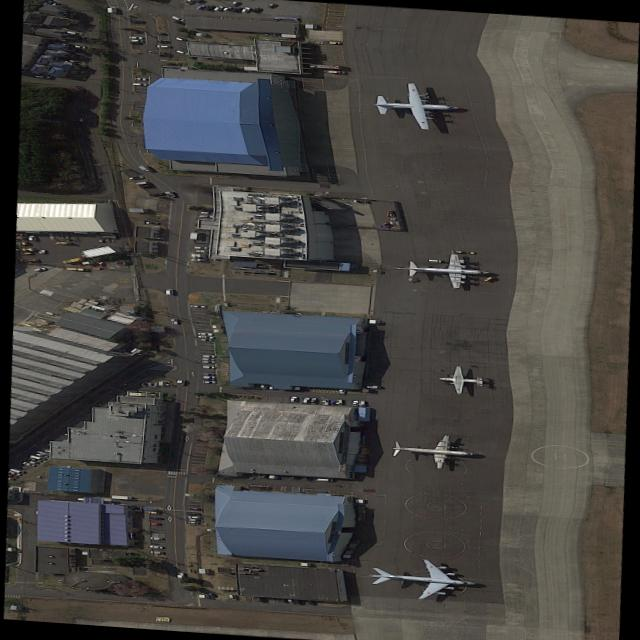plane: (353, 550, 482, 602), (360, 79, 462, 129), (378, 424, 485, 470), (390, 248, 489, 289), (436, 363, 482, 394)
small-vehicle: (135, 164, 152, 171), (33, 449, 52, 455), (28, 453, 45, 459), (39, 446, 56, 452), (32, 451, 48, 457), (64, 29, 83, 34), (169, 14, 184, 20), (173, 48, 188, 54), (326, 68, 344, 73), (26, 456, 43, 461), (239, 5, 251, 12), (227, 5, 241, 11), (7, 467, 23, 472), (137, 182, 153, 187), (211, 4, 224, 10), (171, 19, 186, 24), (20, 460, 35, 465), (202, 3, 214, 9), (482, 274, 494, 280), (126, 174, 144, 178), (172, 35, 186, 40), (130, 81, 147, 85), (189, 303, 206, 307), (196, 334, 213, 338), (164, 190, 175, 196), (128, 18, 144, 22), (249, 6, 261, 11), (155, 43, 170, 47), (25, 458, 37, 463), (31, 266, 46, 270), (192, 244, 207, 248), (201, 379, 216, 383), (146, 191, 165, 194), (133, 76, 147, 80), (320, 397, 328, 404), (147, 515, 161, 519), (43, 310, 57, 314), (194, 3, 205, 8), (47, 0, 58, 5), (258, 382, 267, 388), (227, 593, 236, 599), (132, 180, 150, 183), (129, 37, 142, 41), (147, 509, 160, 513), (149, 549, 162, 553), (33, 74, 50, 77), (196, 331, 213, 334), (265, 2, 275, 7), (350, 398, 357, 405), (309, 396, 316, 403), (129, 40, 141, 44), (220, 5, 232, 9), (292, 597, 300, 603), (301, 396, 309, 402), (289, 394, 297, 400), (363, 384, 379, 387), (27, 234, 35, 240), (40, 0, 52, 4), (164, 287, 172, 293), (229, 0, 238, 5), (127, 35, 142, 38), (316, 477, 331, 480), (147, 544, 162, 547), (351, 198, 366, 201), (198, 210, 213, 213), (186, 511, 201, 514), (155, 39, 169, 42), (72, 44, 86, 47), (279, 596, 286, 602), (337, 387, 344, 393), (426, 258, 440, 261), (198, 337, 212, 340), (200, 356, 214, 359), (200, 359, 214, 362), (201, 364, 215, 367), (201, 371, 215, 374), (201, 374, 215, 377), (201, 377, 215, 380), (306, 598, 314, 603), (254, 595, 262, 600), (334, 398, 342, 403), (36, 248, 44, 253), (169, 317, 177, 322), (327, 40, 340, 43), (153, 31, 166, 34), (147, 521, 160, 524), (187, 514, 200, 517), (201, 353, 214, 356), (186, 506, 199, 509), (149, 535, 161, 538), (286, 597, 293, 602), (357, 399, 364, 404), (267, 383, 274, 388), (207, 591, 214, 596), (182, 0, 193, 3), (187, 520, 198, 523), (187, 517, 198, 520), (77, 116, 85, 120), (197, 214, 213, 216), (329, 398, 335, 403), (194, 0, 200, 2)
storage-tank: (61, 566, 131, 592)
